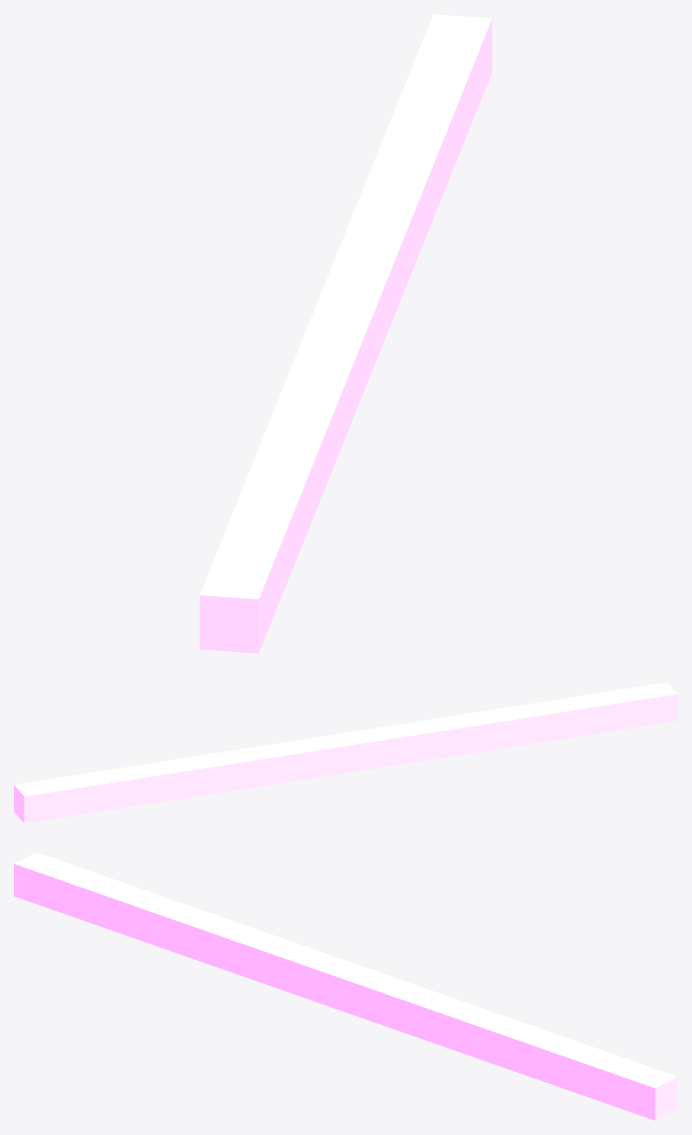
The model's file is tvLine.gltf.
3 renders of one model, top to bottom at view 1: azimuth 30°, elevation 25°; view 2: azimuth 150°, elevation 25°; view 3: azimuth 270°, elevation 25°, orthographic. The views are drawn at different scales.
Parts seen in each view (by area): view 1: polySurface105; view 2: polySurface105; view 3: polySurface105.
Boxes of the visible parts, x1=… form: polySurface105: x1=199, y1=14, x2=492, y2=653; polySurface105: x1=14, y1=682, x2=677, y2=823; polySurface105: x1=14, y1=852, x2=677, y2=1120.
Bounding box in the file's own units: 0.0174 × 0.00111 × 0.0207.
